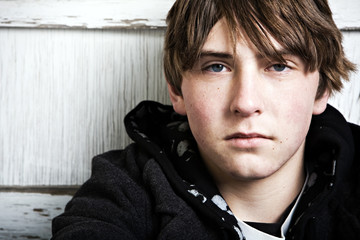teen: (164, 10, 349, 187)
